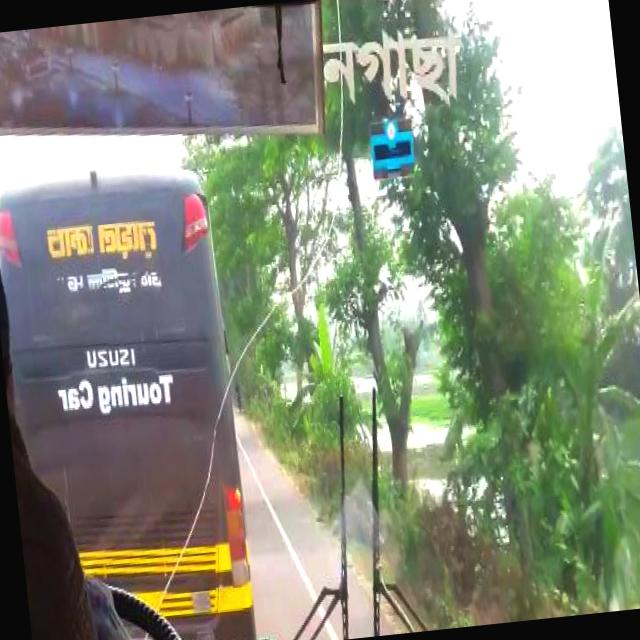bus: (1, 181, 261, 640)
